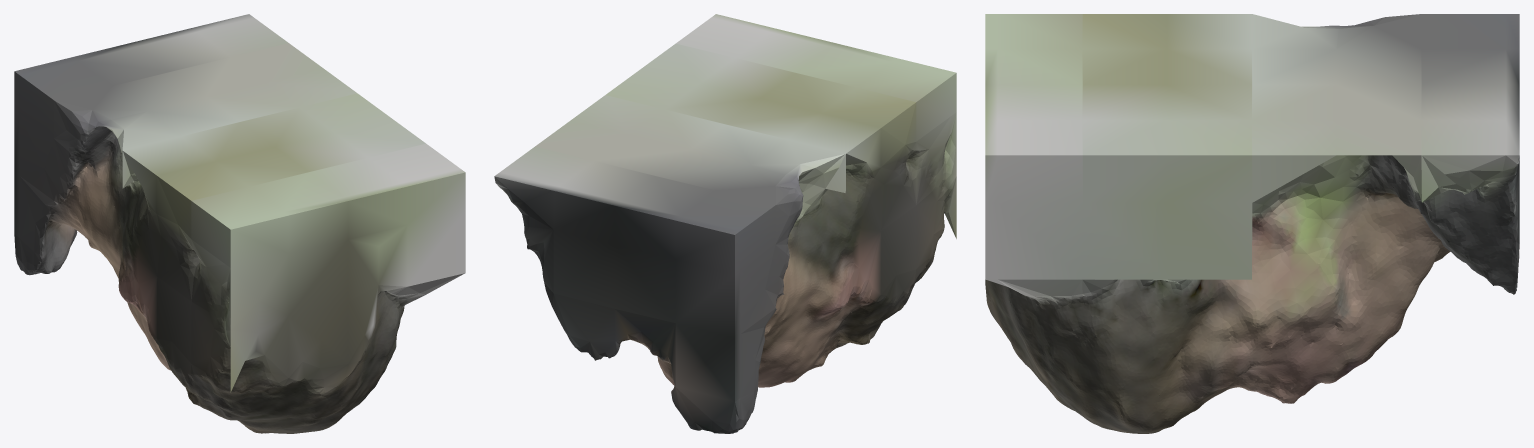
The model's file is exz600kenken.glb.
3 renders of one model, left to right at view 1: azimuth 30°, elevation 25°; view 2: azimuth 150°, elevation 25°; view 3: azimuth 270°, elevation 25°, orthographic. The views are drawn at different scales.
Parts seen in each view (by area): view 1: Mesh_0_Part_0; view 2: Mesh_0_Part_0; view 3: Mesh_0_Part_0.
Part boxes in pixels (<box>): Mesh_0_Part_0: <box>14,14,465,433</box>; Mesh_0_Part_0: <box>494,14,956,433</box>; Mesh_0_Part_0: <box>985,14,1519,433</box>.
Size of the model in its own units: 17.37 by 18.83 by 27.57.
